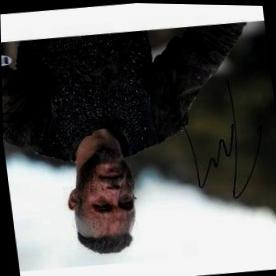Fire: (80, 158, 132, 235)
